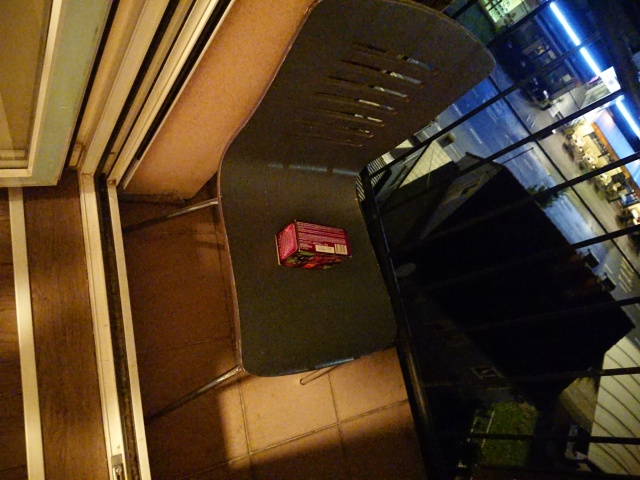Franck Black Currant Tea 60g: (272, 217, 354, 272)
